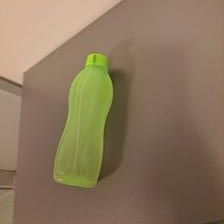bottle: (49, 48, 115, 196)
